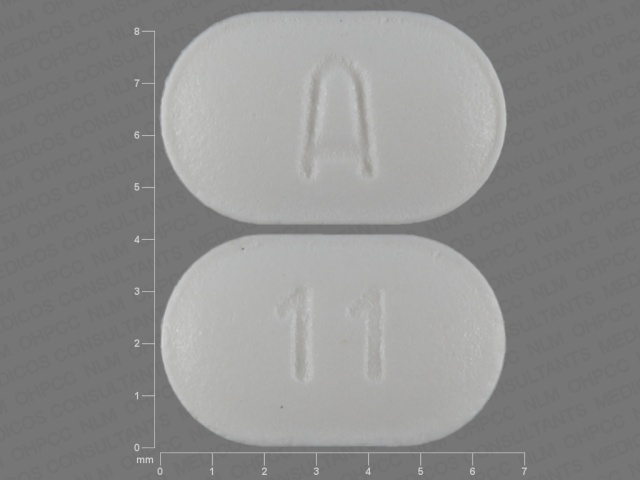1: (276, 279, 324, 390), (347, 284, 391, 385)
A: (297, 57, 379, 185)
